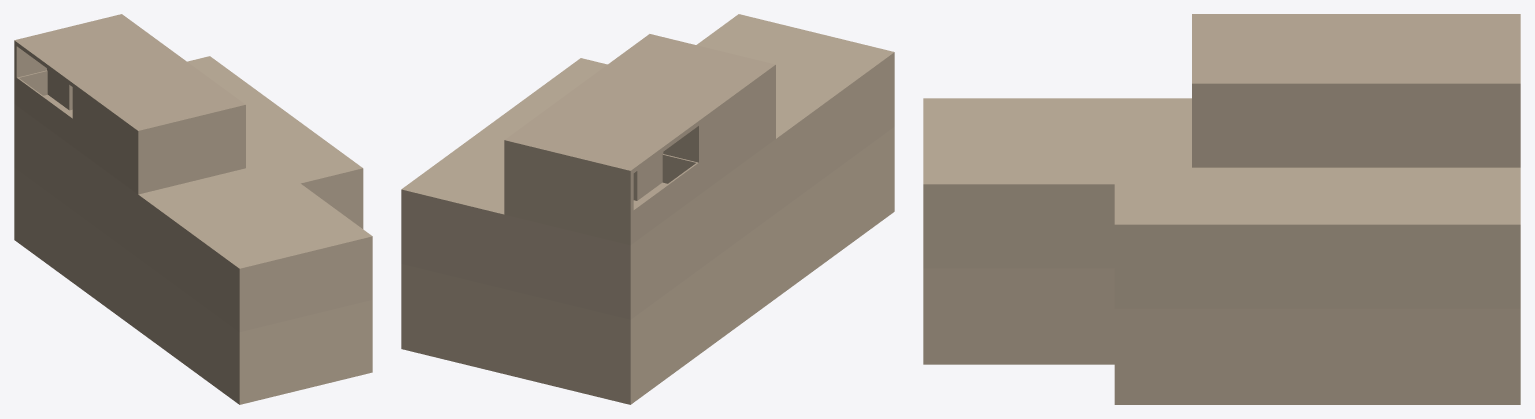
File: massing.glb
3 renders of one model, left to right at view 1: azimuth 30°, elevation 25°; view 2: azimuth 150°, elevation 25°; view 3: azimuth 270°, elevation 25°, orthographic. The views are drawn at different scales.
Parts seen in each view (by area): view 1: main/floor2/0/0, main/floor1/0/0, main/floor3/4/0, main/floor3/1/0, main/floor3/2/0, main/floor3/3/0, main/floor3/0/0; view 2: main/floor2/0/0, main/floor1/0/0, main/floor3/4/0, main/floor3/1/0, main/floor3/2/0, main/floor3/3/0, main/floor3/0/0; view 3: main/floor2/0/0, main/floor1/0/0, main/floor3/4/0, main/floor3/1/0, main/floor3/2/0, main/floor3/3/0, main/floor3/0/0.
Boxes of the visible parts, x1,y1,x2,y2 form: main/floor2/0/0: (14,56,372,332); main/floor1/0/0: (14,167,372,404); main/floor3/4/0: (14,14,245,134); main/floor3/1/0: (14,70,245,190); main/floor3/2/0: (14,52,245,166); main/floor3/3/0: (14,44,245,142); main/floor3/0/0: (14,94,245,194); main/floor2/0/0: (401,14,894,319); main/floor1/0/0: (401,127,894,404); main/floor3/4/0: (504,34,775,175); main/floor3/1/0: (504,106,775,240); main/floor3/2/0: (504,78,775,212); main/floor3/3/0: (504,69,775,184); main/floor3/0/0: (504,134,775,245); main/floor2/0/0: (923,98,1520,308); main/floor1/0/0: (923,268,1520,404); main/floor3/4/0: (1192,14,1520,88); main/floor3/1/0: (1192,130,1520,162); main/floor3/2/0: (1192,99,1520,130); main/floor3/3/0: (1192,89,1520,99); main/floor3/0/0: (1192,162,1520,167).
Size of the model in its own units: 9.02 by 8.8 by 18.
